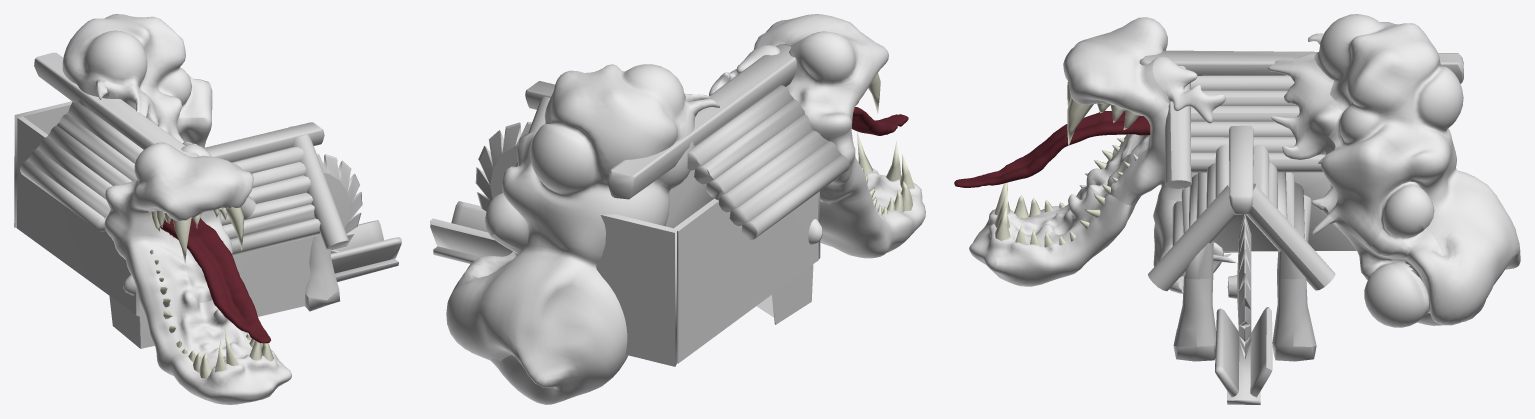
File: RATUSZEKFIXEDIHPE.fbx
3 views of the same model, side by side, from view 1: azimuth 30°, elevation 25°; view 2: azimuth 150°, elevation 25°; view 3: azimuth 270°, elevation 25° (orthographic). The views are drawn at different scales.
Visible parts, largest first — view 1: Cube.046; view 2: Cube.046; view 3: Cube.046.
Part boxes in pixels (box(x1,y1,x2,y2)): Cube.046: box(14, 14, 401, 404); Cube.046: box(430, 14, 925, 404); Cube.046: box(954, 14, 1520, 404).
Bounding box in the file's own units: 2326 × 1776 × 3266.
